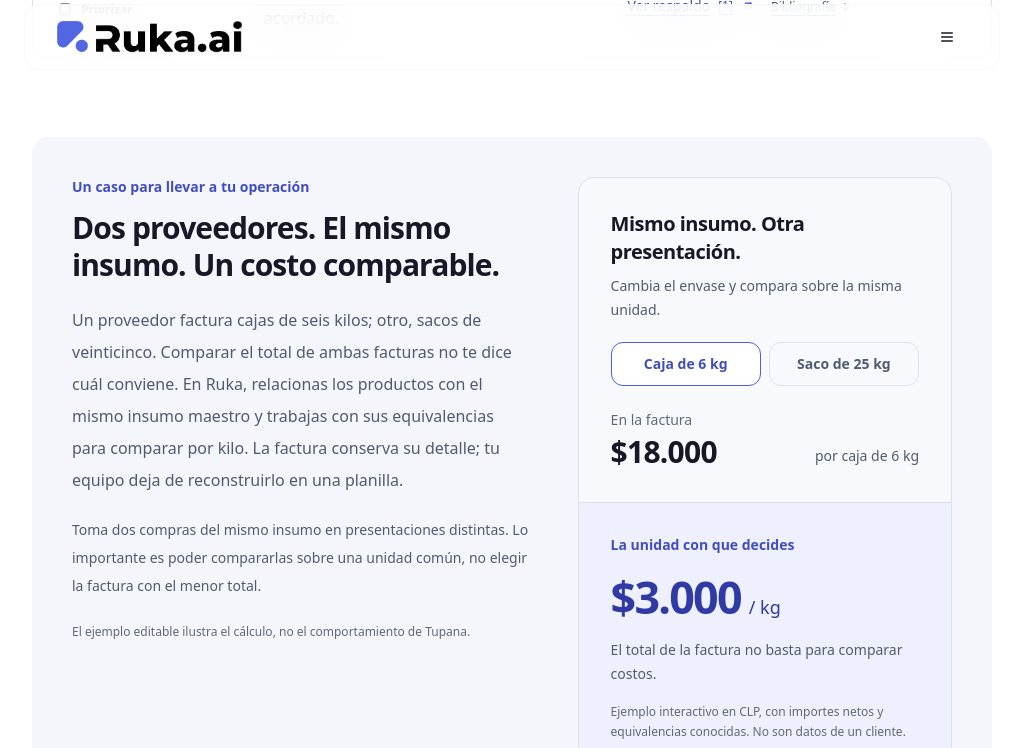
Test: comparison interactions › changes the cost example with pointer or keyboard without touching a form
(page scrolled)
Click the button "Saco de 25 kg".
click(844, 364)  # box [769,342,919,386]
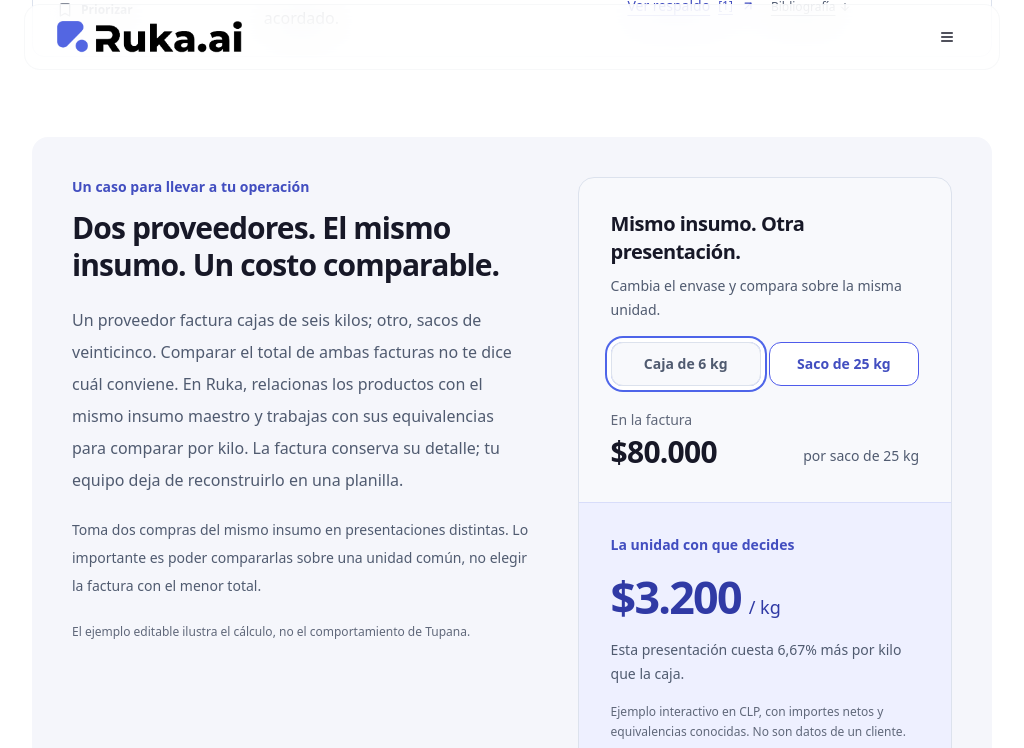
Check: the text "Esta presentación cuesta 6,67% más por kilo que la caja." is shown, box [611,638,919,686]
Press Enter
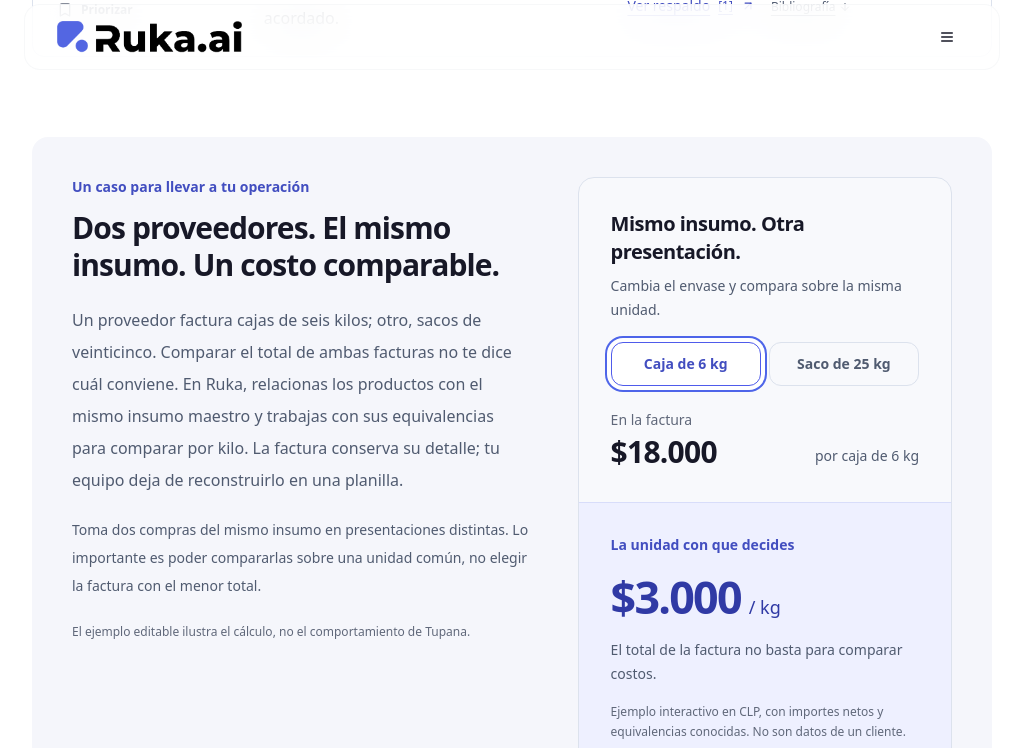
Check: the text "El total de la factura no basta para comparar costos." is shown, box [611,638,919,686]
